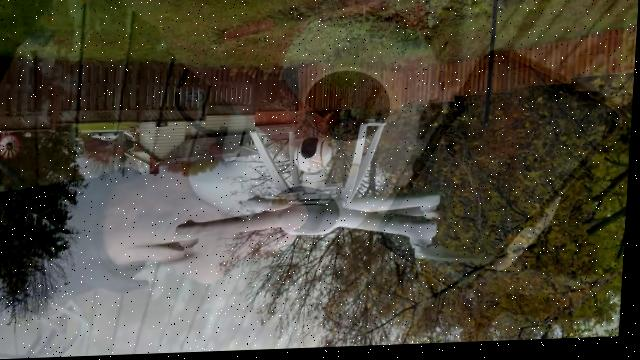drone: (130, 105, 496, 300)
